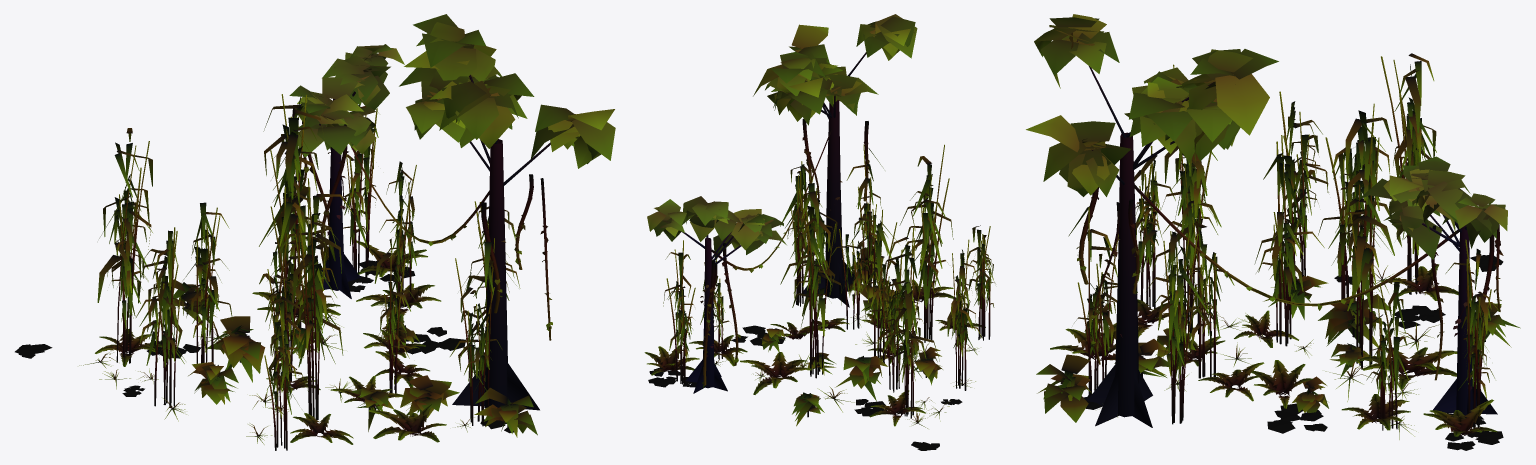
File: patch_bamboo_grove.glb
3 renders of one model, left to right at view 1: azimuth 30°, elevation 25°; view 2: azimuth 150°, elevation 25°; view 3: azimuth 270°, elevation 25°, orthographic. The views are drawn at different scales.
Parts seen in each view (by area): view 1: patch_bamboo_grove; view 2: patch_bamboo_grove; view 3: patch_bamboo_grove.
Part boxes in pixels (x1=…): patch_bamboo_grove: x1=15, y1=14, x2=615, y2=450; patch_bamboo_grove: x1=644, y1=14, x2=995, y2=450; patch_bamboo_grove: x1=1026, y1=14, x2=1520, y2=450.
Size of the model in its own units: 15.06 by 13.26 by 15.65.
1 material, 1 textured.
